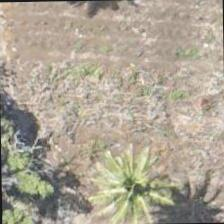Kelapa_Sawit: (91, 151, 183, 223)
